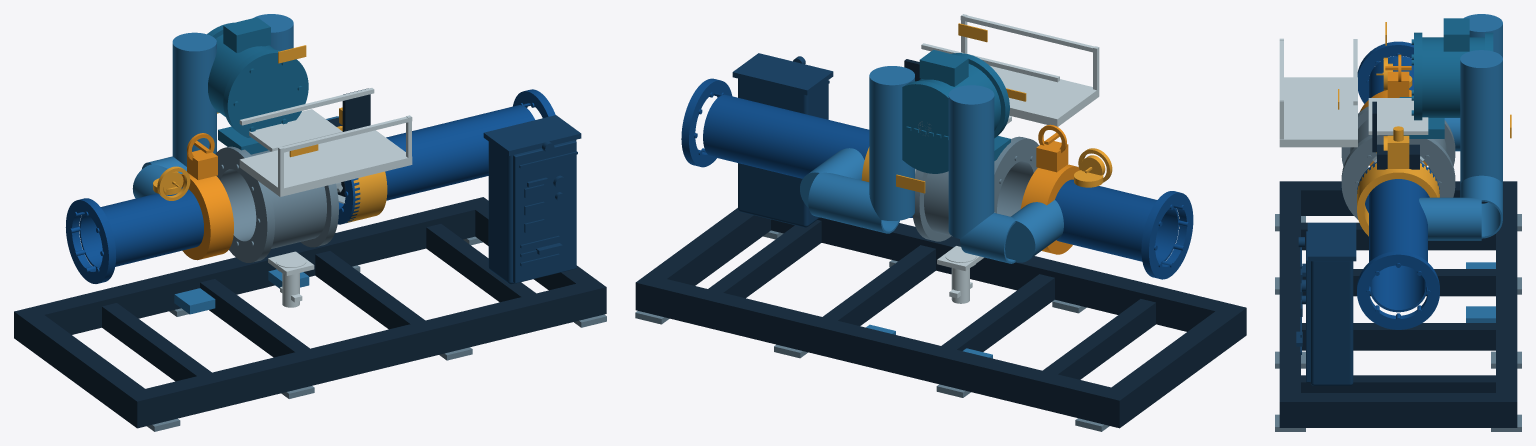
The model's file is regenflow-exploded.glb.
3 views of the same model, side by side, from view 1: azimuth 30°, elevation 25°; view 2: azimuth 150°, elevation 25°; view 3: azimuth 270°, elevation 25° (orthographic). The views are drawn at different scales.
Visible parts, largest first — view 1: regenflow.skid_frame, regenflow.control_cabinet, regenflow.generator, regenflow.inlet_pressure_pipe, regenflow.service_platform, regenflow.outlet_pressure_pipe, regenflow.service_bypass, regenflow.pat_housing, regenflow.isolation_valve, regenflow.instrumentation, regenflow.service_cover, regenflow.drain_access (+1 smaller); view 2: regenflow.skid_frame, regenflow.service_bypass, regenflow.outlet_pressure_pipe, regenflow.inlet_pressure_pipe, regenflow.control_cabinet, regenflow.generator, regenflow.service_platform, regenflow.pat_housing, regenflow.isolation_valve, regenflow.instrumentation, regenflow.drain_access; view 3: regenflow.skid_frame, regenflow.service_bypass, regenflow.outlet_pressure_pipe, regenflow.control_cabinet, regenflow.service_platform, regenflow.generator, regenflow.pat_housing, regenflow.instrumentation, regenflow.inlet_pressure_pipe, regenflow.service_cover, regenflow.runner_coupling_guard, regenflow.isolation_valve.
Boxes of the visible parts, x1,y1,x2,y2 form: regenflow.skid_frame: [14, 197, 606, 428]; regenflow.control_cabinet: [483, 115, 581, 284]; regenflow.generator: [207, 17, 308, 154]; regenflow.inlet_pressure_pipe: [65, 187, 203, 283]; regenflow.service_platform: [239, 88, 412, 196]; regenflow.outlet_pressure_pipe: [338, 89, 555, 224]; regenflow.service_bypass: [132, 14, 338, 314]; regenflow.pat_housing: [215, 146, 338, 262]; regenflow.isolation_valve: [181, 150, 233, 260]; regenflow.instrumentation: [153, 107, 387, 222]; regenflow.service_cover: [249, 109, 342, 151]; regenflow.drain_access: [268, 251, 314, 307]; regenflow.skid_frame: [635, 208, 1246, 428]; regenflow.service_bypass: [800, 66, 1063, 358]; regenflow.outlet_pressure_pipe: [681, 78, 912, 217]; regenflow.inlet_pressure_pipe: [1055, 179, 1193, 279]; regenflow.control_cabinet: [732, 53, 833, 227]; regenflow.generator: [902, 49, 1010, 173]; regenflow.service_platform: [921, 14, 1099, 126]; regenflow.pat_housing: [912, 136, 1038, 241]; regenflow.isolation_valve: [1020, 141, 1079, 254]; regenflow.instrumentation: [861, 147, 1112, 187]; regenflow.drain_access: [937, 246, 983, 303]; regenflow.skid_frame: [1279, 181, 1517, 427]; regenflow.service_bypass: [1419, 14, 1502, 322]; regenflow.outlet_pressure_pipe: [1357, 162, 1439, 329]; regenflow.control_cabinet: [1296, 222, 1356, 385]; regenflow.service_platform: [1279, 38, 1357, 147]; regenflow.generator: [1399, 18, 1493, 138]; regenflow.pat_housing: [1341, 106, 1455, 219]; regenflow.instrumentation: [1357, 57, 1439, 236]; regenflow.inlet_pressure_pipe: [1357, 41, 1413, 103]; regenflow.service_cover: [1368, 98, 1428, 134]; regenflow.runner_coupling_guard: [1372, 101, 1419, 169]; regenflow.isolation_valve: [1360, 71, 1427, 166].
Bounding box in the file's own units: 2200 × 1314 × 1040.
